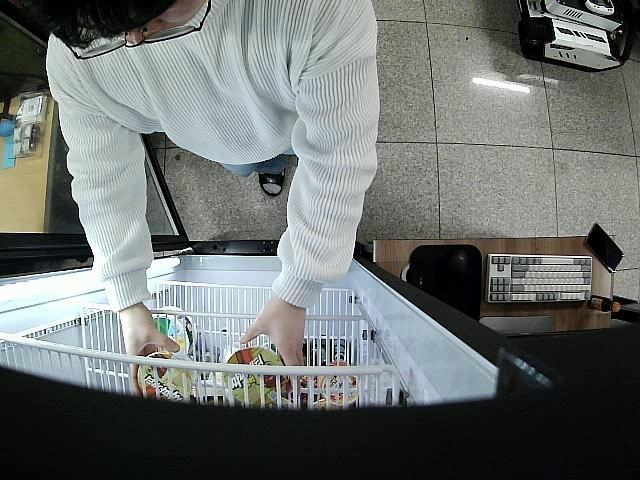04_chapagetti_S: (219, 349, 299, 410), (136, 351, 202, 407)
